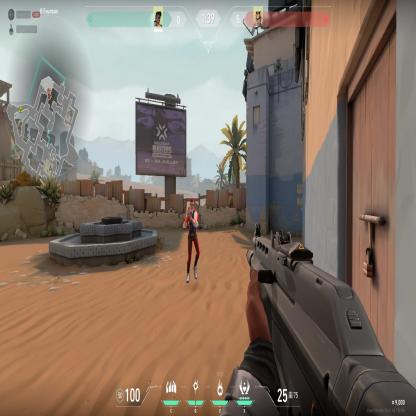enemy: (181, 198, 201, 284)
